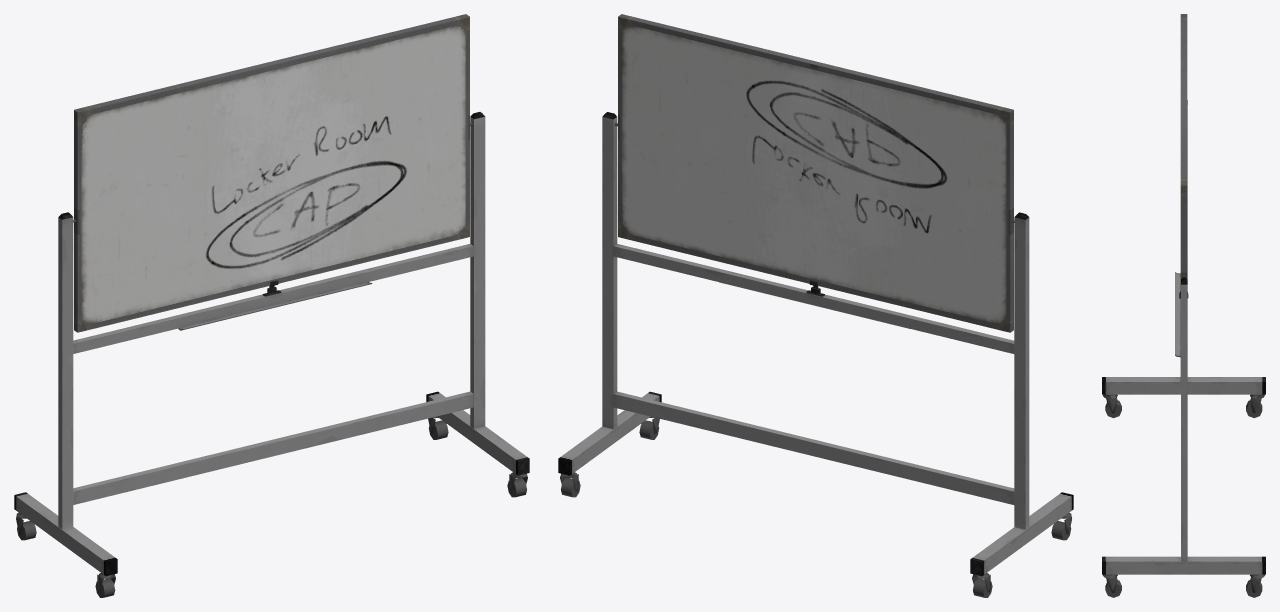
File: sm42_053_whiteboard03a.fbx
3 views of the same model, side by side, from view 1: azimuth 30°, elevation 25°; view 2: azimuth 150°, elevation 25°; view 3: azimuth 270°, elevation 25° (orthographic). The views are drawn at different scales.
Visible parts, largest first — view 1: LOD_1_Group_100_Sub_1__sm42_053_WhiteBoard03A_A_Mat; view 2: LOD_1_Group_100_Sub_1__sm42_053_WhiteBoard03A_A_Mat; view 3: LOD_1_Group_100_Sub_1__sm42_053_WhiteBoard03A_A_Mat.
Boxes of the visible parts, x1=… form: LOD_1_Group_100_Sub_1__sm42_053_WhiteBoard03A_A_Mat: x1=14, y1=14, x2=529, y2=597; LOD_1_Group_100_Sub_1__sm42_053_WhiteBoard03A_A_Mat: x1=558, y1=14, x2=1073, y2=597; LOD_1_Group_100_Sub_1__sm42_053_WhiteBoard03A_A_Mat: x1=1102, y1=14, x2=1265, y2=597.
Bounding box in the file's own units: 1.93 × 1.95 × 0.7142.
